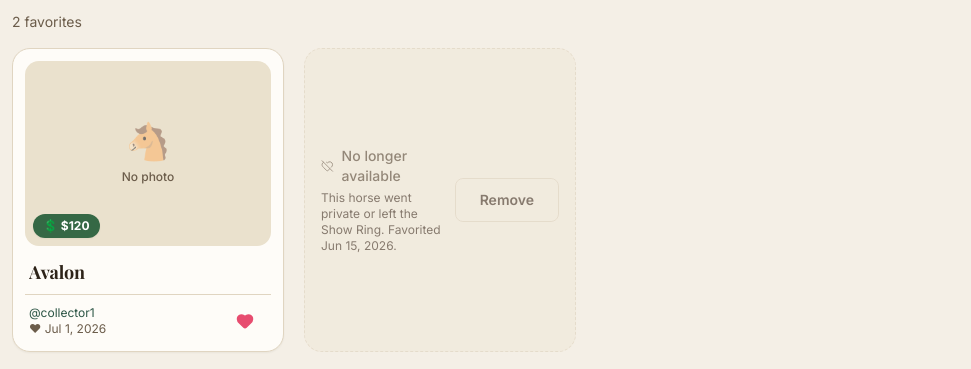
Test: FavoritesBrowser › restores the card and shows an error toast when unfavoriting fails
Click the button named "Unfavorite Avalon".
click(245, 320)  # box [223,298,267,342]
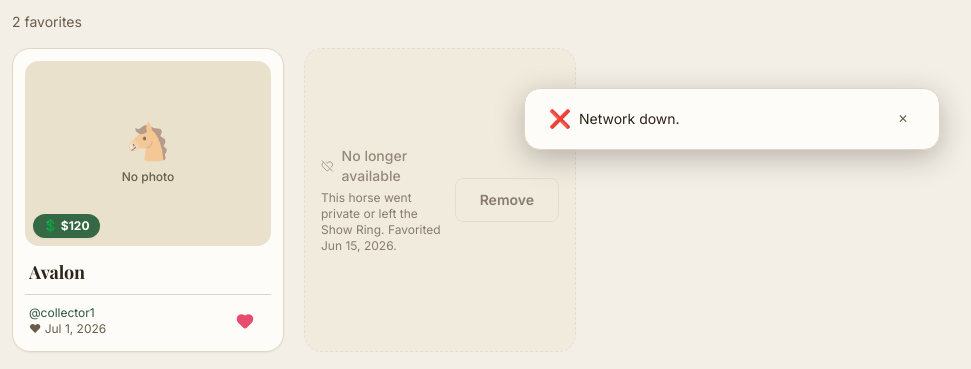
Expected: the heading "Avalon" is shown, [29,260,85,284]
Result: the text "Network down." is shown at [579,110,680,127]
